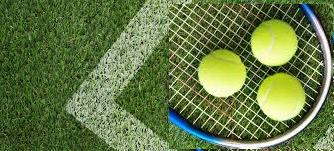tennis ball: (197, 32, 245, 79), (204, 87, 251, 133), (256, 56, 302, 103)
tennis racket: (170, 4, 332, 148)
